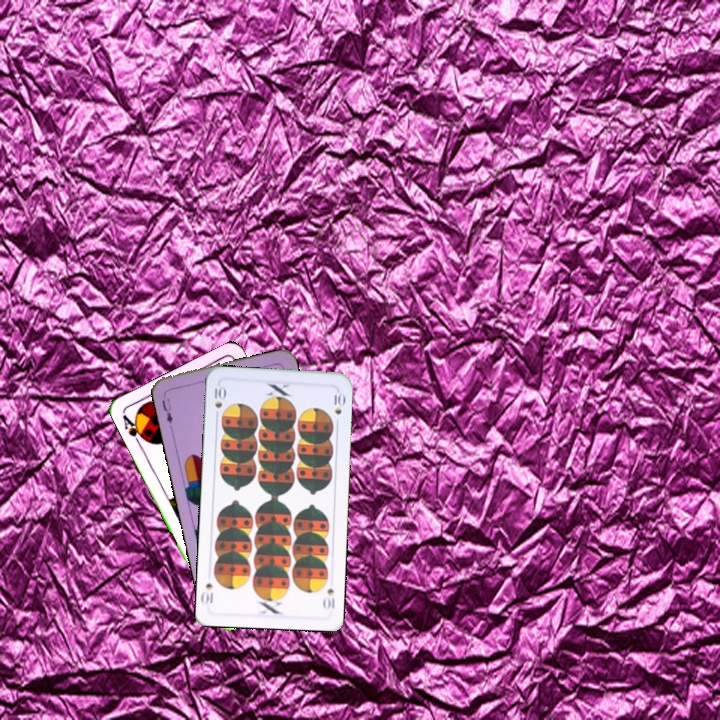EU: (158, 394, 176, 431)
S10: (210, 383, 227, 421), (320, 584, 337, 612)
SA: (119, 411, 149, 449)
